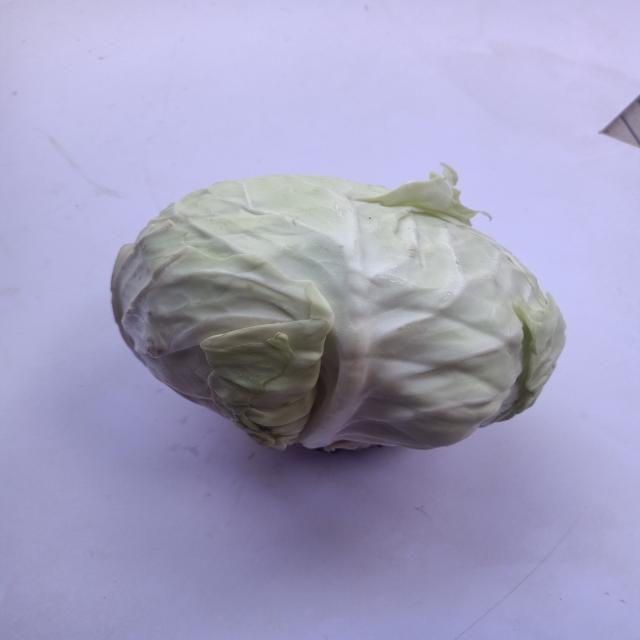Cabbage: (92, 157, 600, 488)
